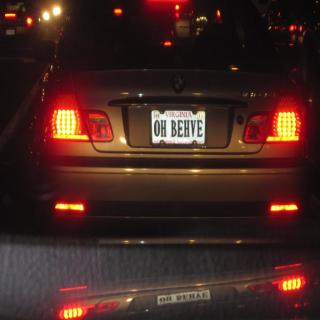license: (148, 103, 214, 149)
